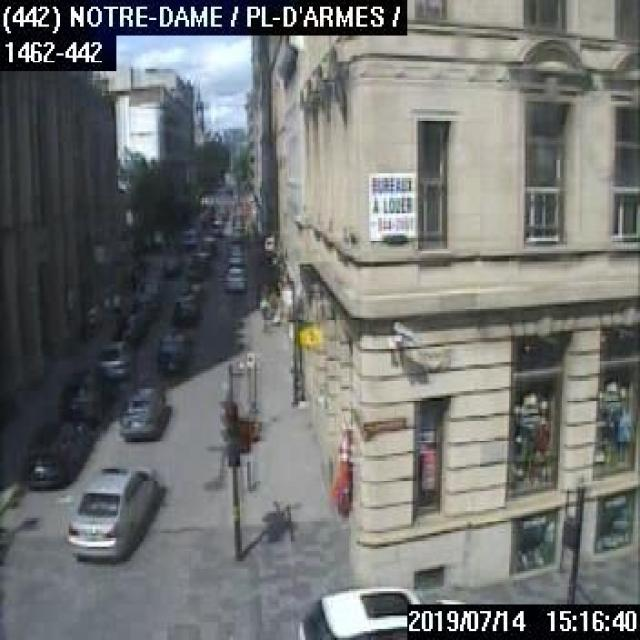pedestrian: (105, 284, 116, 324)
vehicle: (291, 582, 464, 638), (66, 467, 158, 560), (22, 419, 85, 489), (116, 384, 166, 440), (57, 372, 110, 424), (96, 337, 136, 380), (155, 334, 187, 374), (173, 292, 199, 324), (222, 265, 247, 291), (224, 240, 245, 264)
